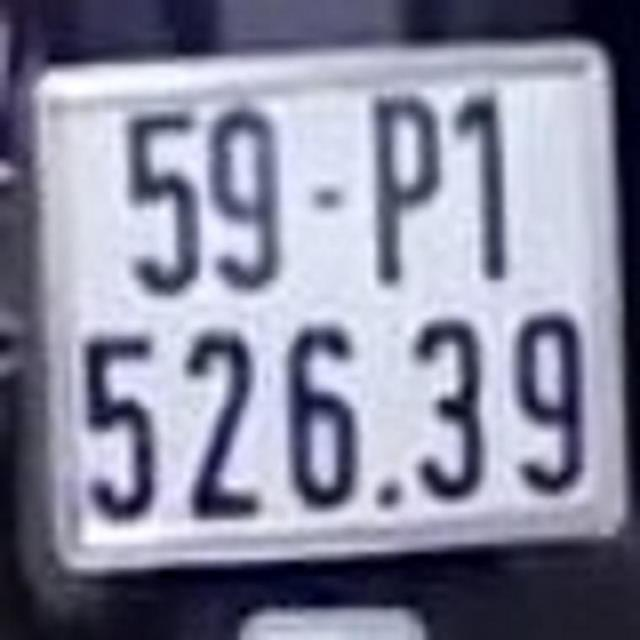1: (452, 79, 526, 284)
2: (185, 317, 266, 508)
3: (405, 295, 487, 499)
5: (71, 321, 172, 521), (117, 109, 204, 298)
6: (278, 302, 365, 509)
9: (206, 97, 293, 298), (518, 292, 590, 486)
P: (358, 80, 445, 299)
